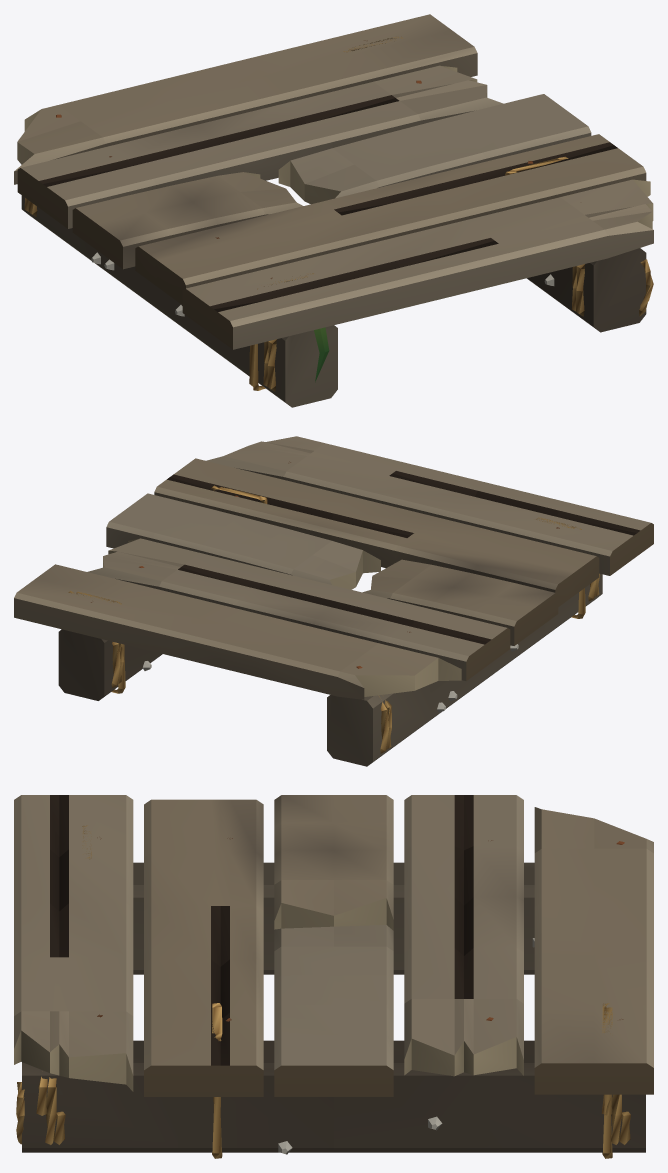
Rendered from crumble_beach.glb.
The picture shows the model from 3 angles, top to bottom: view 1: azimuth 30°, elevation 25°; view 2: azimuth 150°, elevation 25°; view 3: azimuth 270°, elevation 25°; orthographic projection. The views are drawn at different scales.
Visible parts, largest first — view 1: crumble_beach; view 2: crumble_beach; view 3: crumble_beach.
Boxes of the visible parts, x1,y1,x2,y2 form: crumble_beach: (14, 14, 653, 407); crumble_beach: (14, 436, 653, 766); crumble_beach: (14, 795, 653, 1158).
Bounding box in the file's own units: 2.4 × 0.5 × 2.4.
